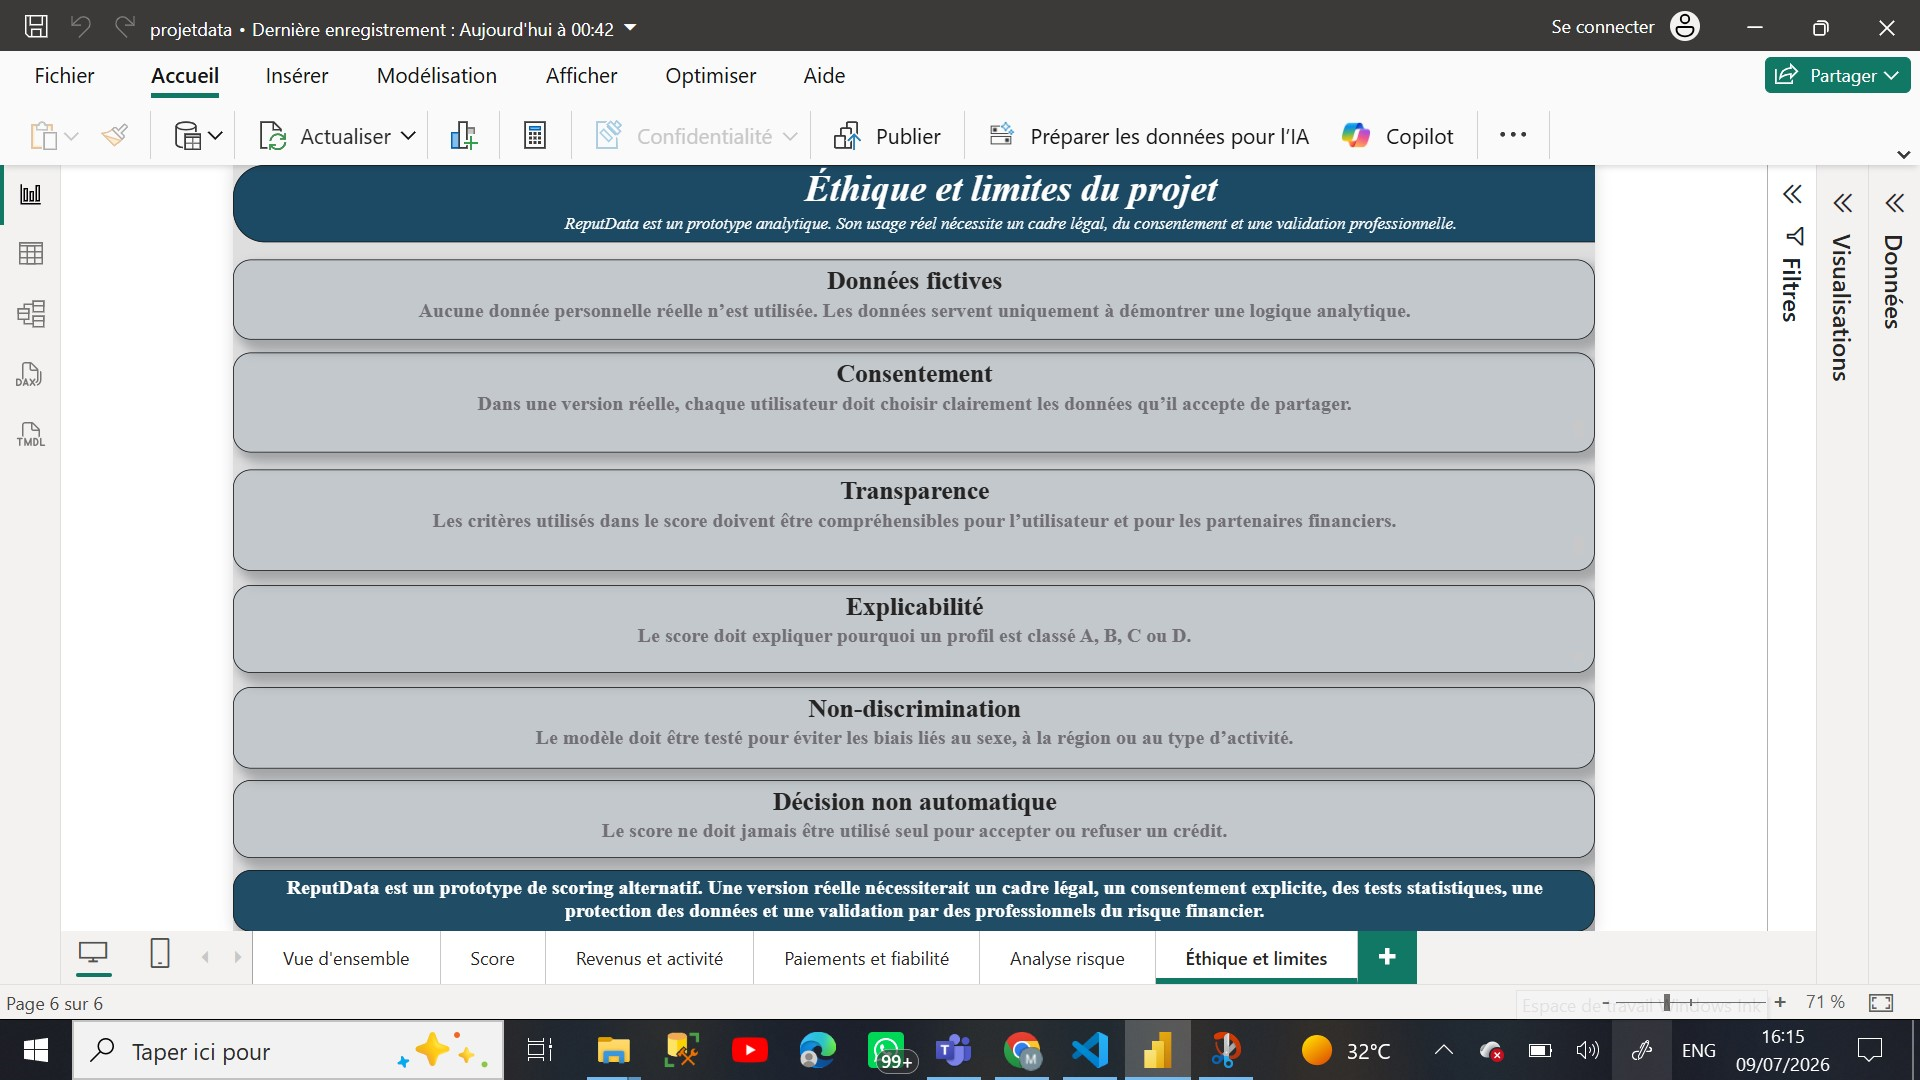

This screenshot's page, from the dashboard's own definition file:
{"tool":"powerbi","page":{"name":"Éthique et limites","canvas":[1280,720],"ordinal":5},"visuals":[{"type":"textbox","title":"Éthique et limites du projet","box":[0,0,1461.4,72.7],"z":0},{"type":"textbox","title":"Données fictives","box":[0,89.1,1280.1,75],"z":1000},{"type":"textbox","title":"Consentement","box":[0,176.6,1280.1,93.8],"z":2000},{"type":"textbox","title":"Transparence","box":[0,286,1280.1,95.3],"z":3000},{"type":"textbox","title":"Explicabilité","box":[0,395.4,1280.1,82.8],"z":4000},{"type":"textbox","title":"Non-discrimination","box":[0,490.8,1280.1,76.6],"z":5000},{"type":"textbox","title":"Décision non automatique","box":[0,578.3,1280.1,73.5],"z":6000},{"type":"textbox","title":"ReputData est un prototype de scoring alternatif. Une version réelle nécessiterait un cadre légal, un consentement explicite, des tests statistiques, une protection des données et une validation par d","box":[0,662.7,1280.1,57.8],"z":7000}]}

Visuals, with their boxes on the page's 1280x720 design canvas (x1, y1, x2, y2). These are canvas units, not pixel positions in the 1920x1080 screenshot, which may show the page scaled, cropped or inside an application window:
"Éthique et limites du projet" textbox: bbox=[0, 0, 1461, 73]
"Données fictives" textbox: bbox=[0, 89, 1280, 164]
"Consentement" textbox: bbox=[0, 177, 1280, 270]
"Transparence" textbox: bbox=[0, 286, 1280, 381]
"Explicabilité" textbox: bbox=[0, 395, 1280, 478]
"Non-discrimination" textbox: bbox=[0, 491, 1280, 567]
"Décision non automatique" textbox: bbox=[0, 578, 1280, 652]
"ReputData est un prototype de scoring alternatif. Une version réelle nécessiterait un cadre légal, un consentement explicite, des tests statistiques, une protection des données et une validation par d" textbox: bbox=[0, 663, 1280, 720]
